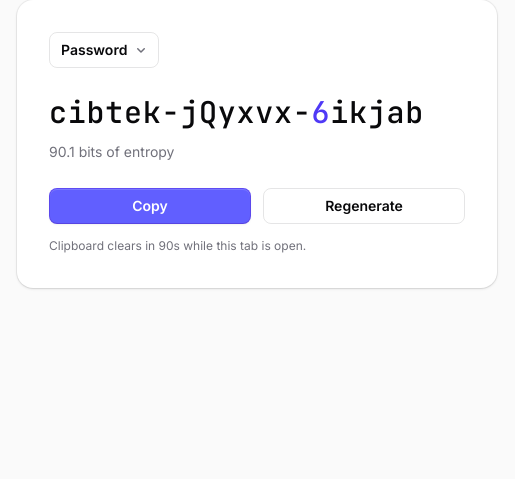
Test: GeneratorCard — Custom Password and Memorable controls › shows the Custom Password length and symbol controls at their defaults
Click the button with aria-label "Format:" at (104, 50), box [49, 32, 159, 68]
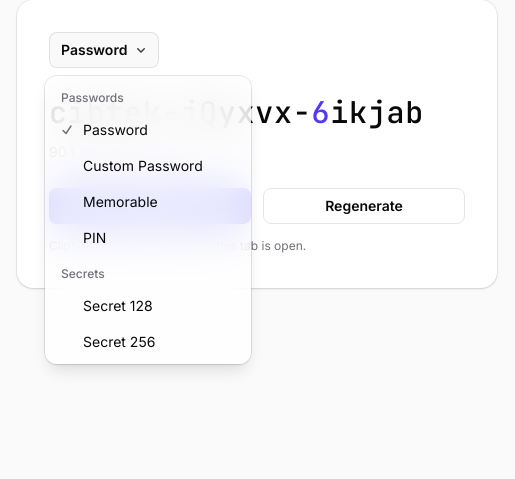
Click the menu item "Custom Password" at (148, 166), box [49, 148, 247, 184]
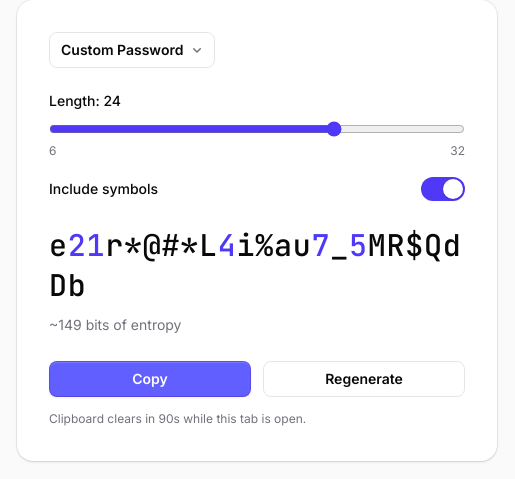
Expected: the slider named "Password length" holds "24", [49, 121, 465, 137]
Expected: the text "Length: 24" is shown, [49, 92, 121, 109]
Expected: the switch named "Include symbols" is checked, [421, 177, 465, 201]
